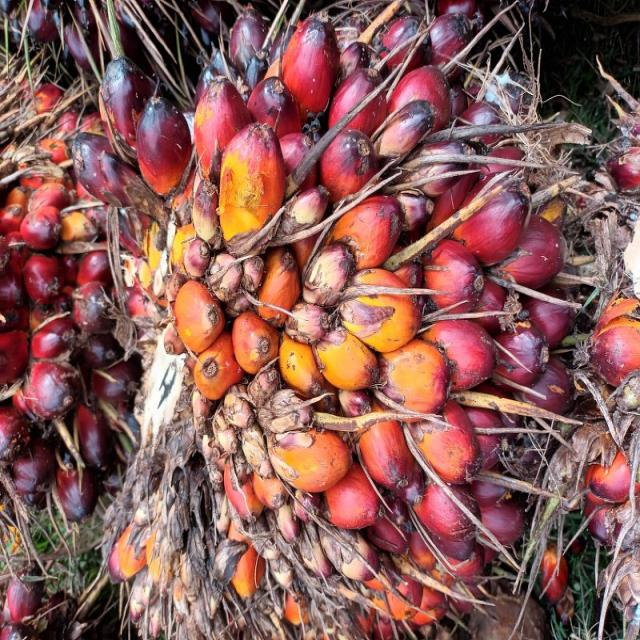fraksi 1: (24, 130, 480, 640)
